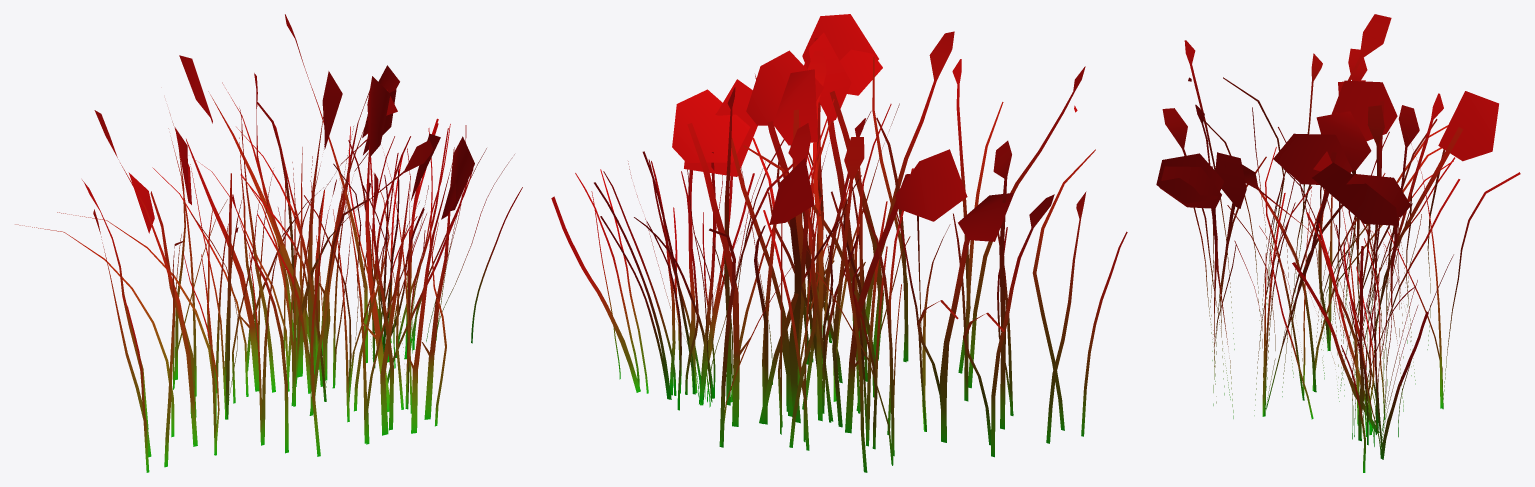
The model's file is Softstem Bulrush_LOD2_Var9_uehjcafia.fbx.
3 renders of one model, left to right at view 1: azimuth 30°, elevation 25°; view 2: azimuth 150°, elevation 25°; view 3: azimuth 270°, elevation 25°, orthographic. The views are drawn at different scales.
Parts seen in each view (by area): view 1: _80f3_Var9_LOD2; view 2: _80f3_Var9_LOD2; view 3: _80f3_Var9_LOD2.
Boxes of the visible parts, <box> form: _80f3_Var9_LOD2: <box>15,14,522,472</box>; _80f3_Var9_LOD2: <box>551,14,1127,472</box>; _80f3_Var9_LOD2: <box>1156,14,1520,472</box>.
Bounding box in the file's own units: 290 × 207 × 217.
